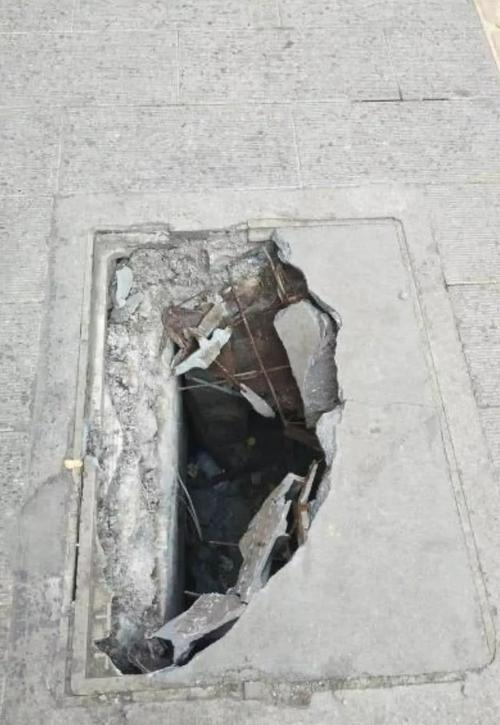broke: (50, 197, 477, 694)
